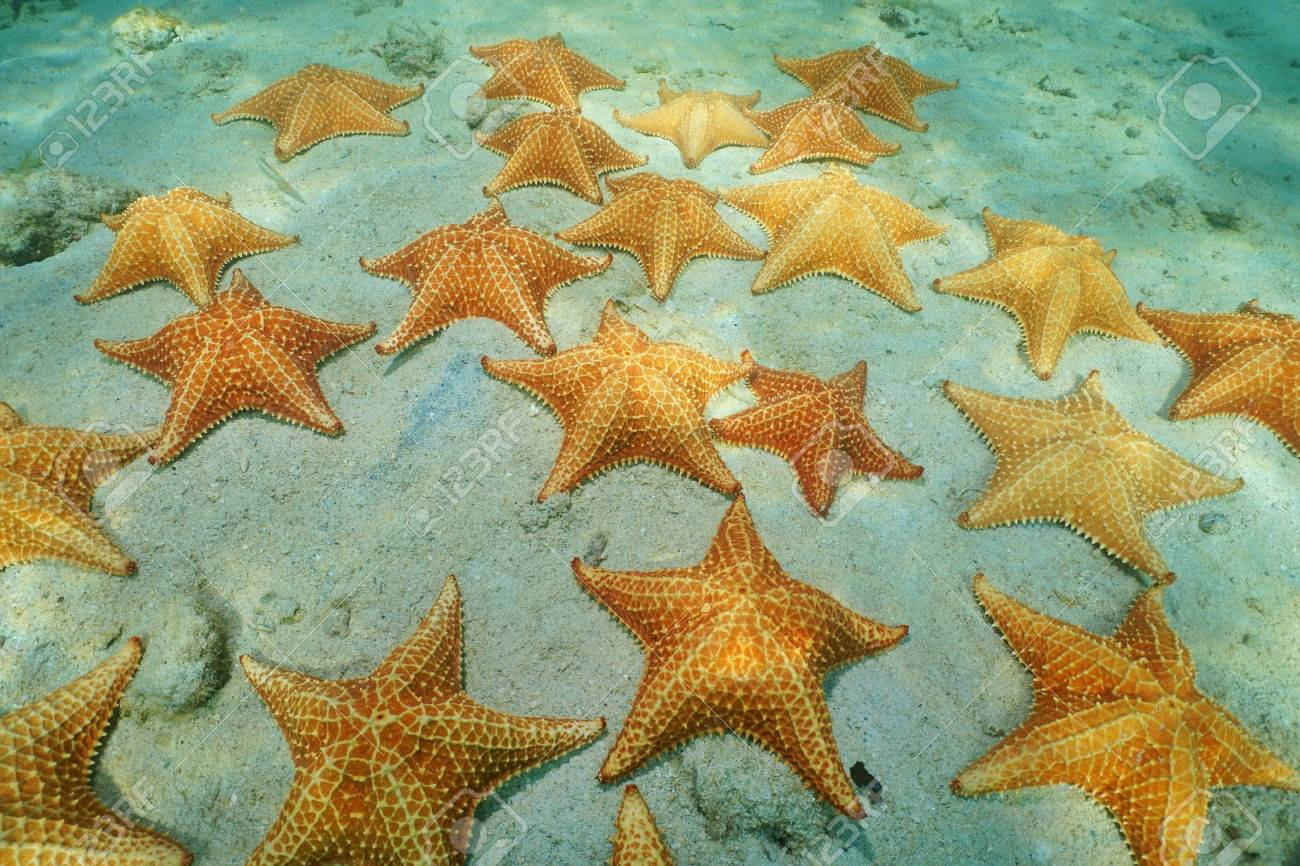starfish: (208, 581, 594, 866), (574, 482, 888, 794), (973, 580, 1300, 851), (924, 367, 1234, 581), (102, 269, 374, 463), (491, 305, 756, 503), (20, 629, 190, 866), (941, 191, 1146, 387), (722, 154, 949, 320), (3, 393, 177, 594), (362, 198, 601, 342), (713, 349, 916, 496), (72, 186, 288, 311), (201, 44, 421, 162), (1144, 280, 1300, 430), (462, 94, 634, 207), (766, 28, 951, 131), (614, 63, 769, 167), (460, 26, 617, 118), (747, 80, 873, 187)
